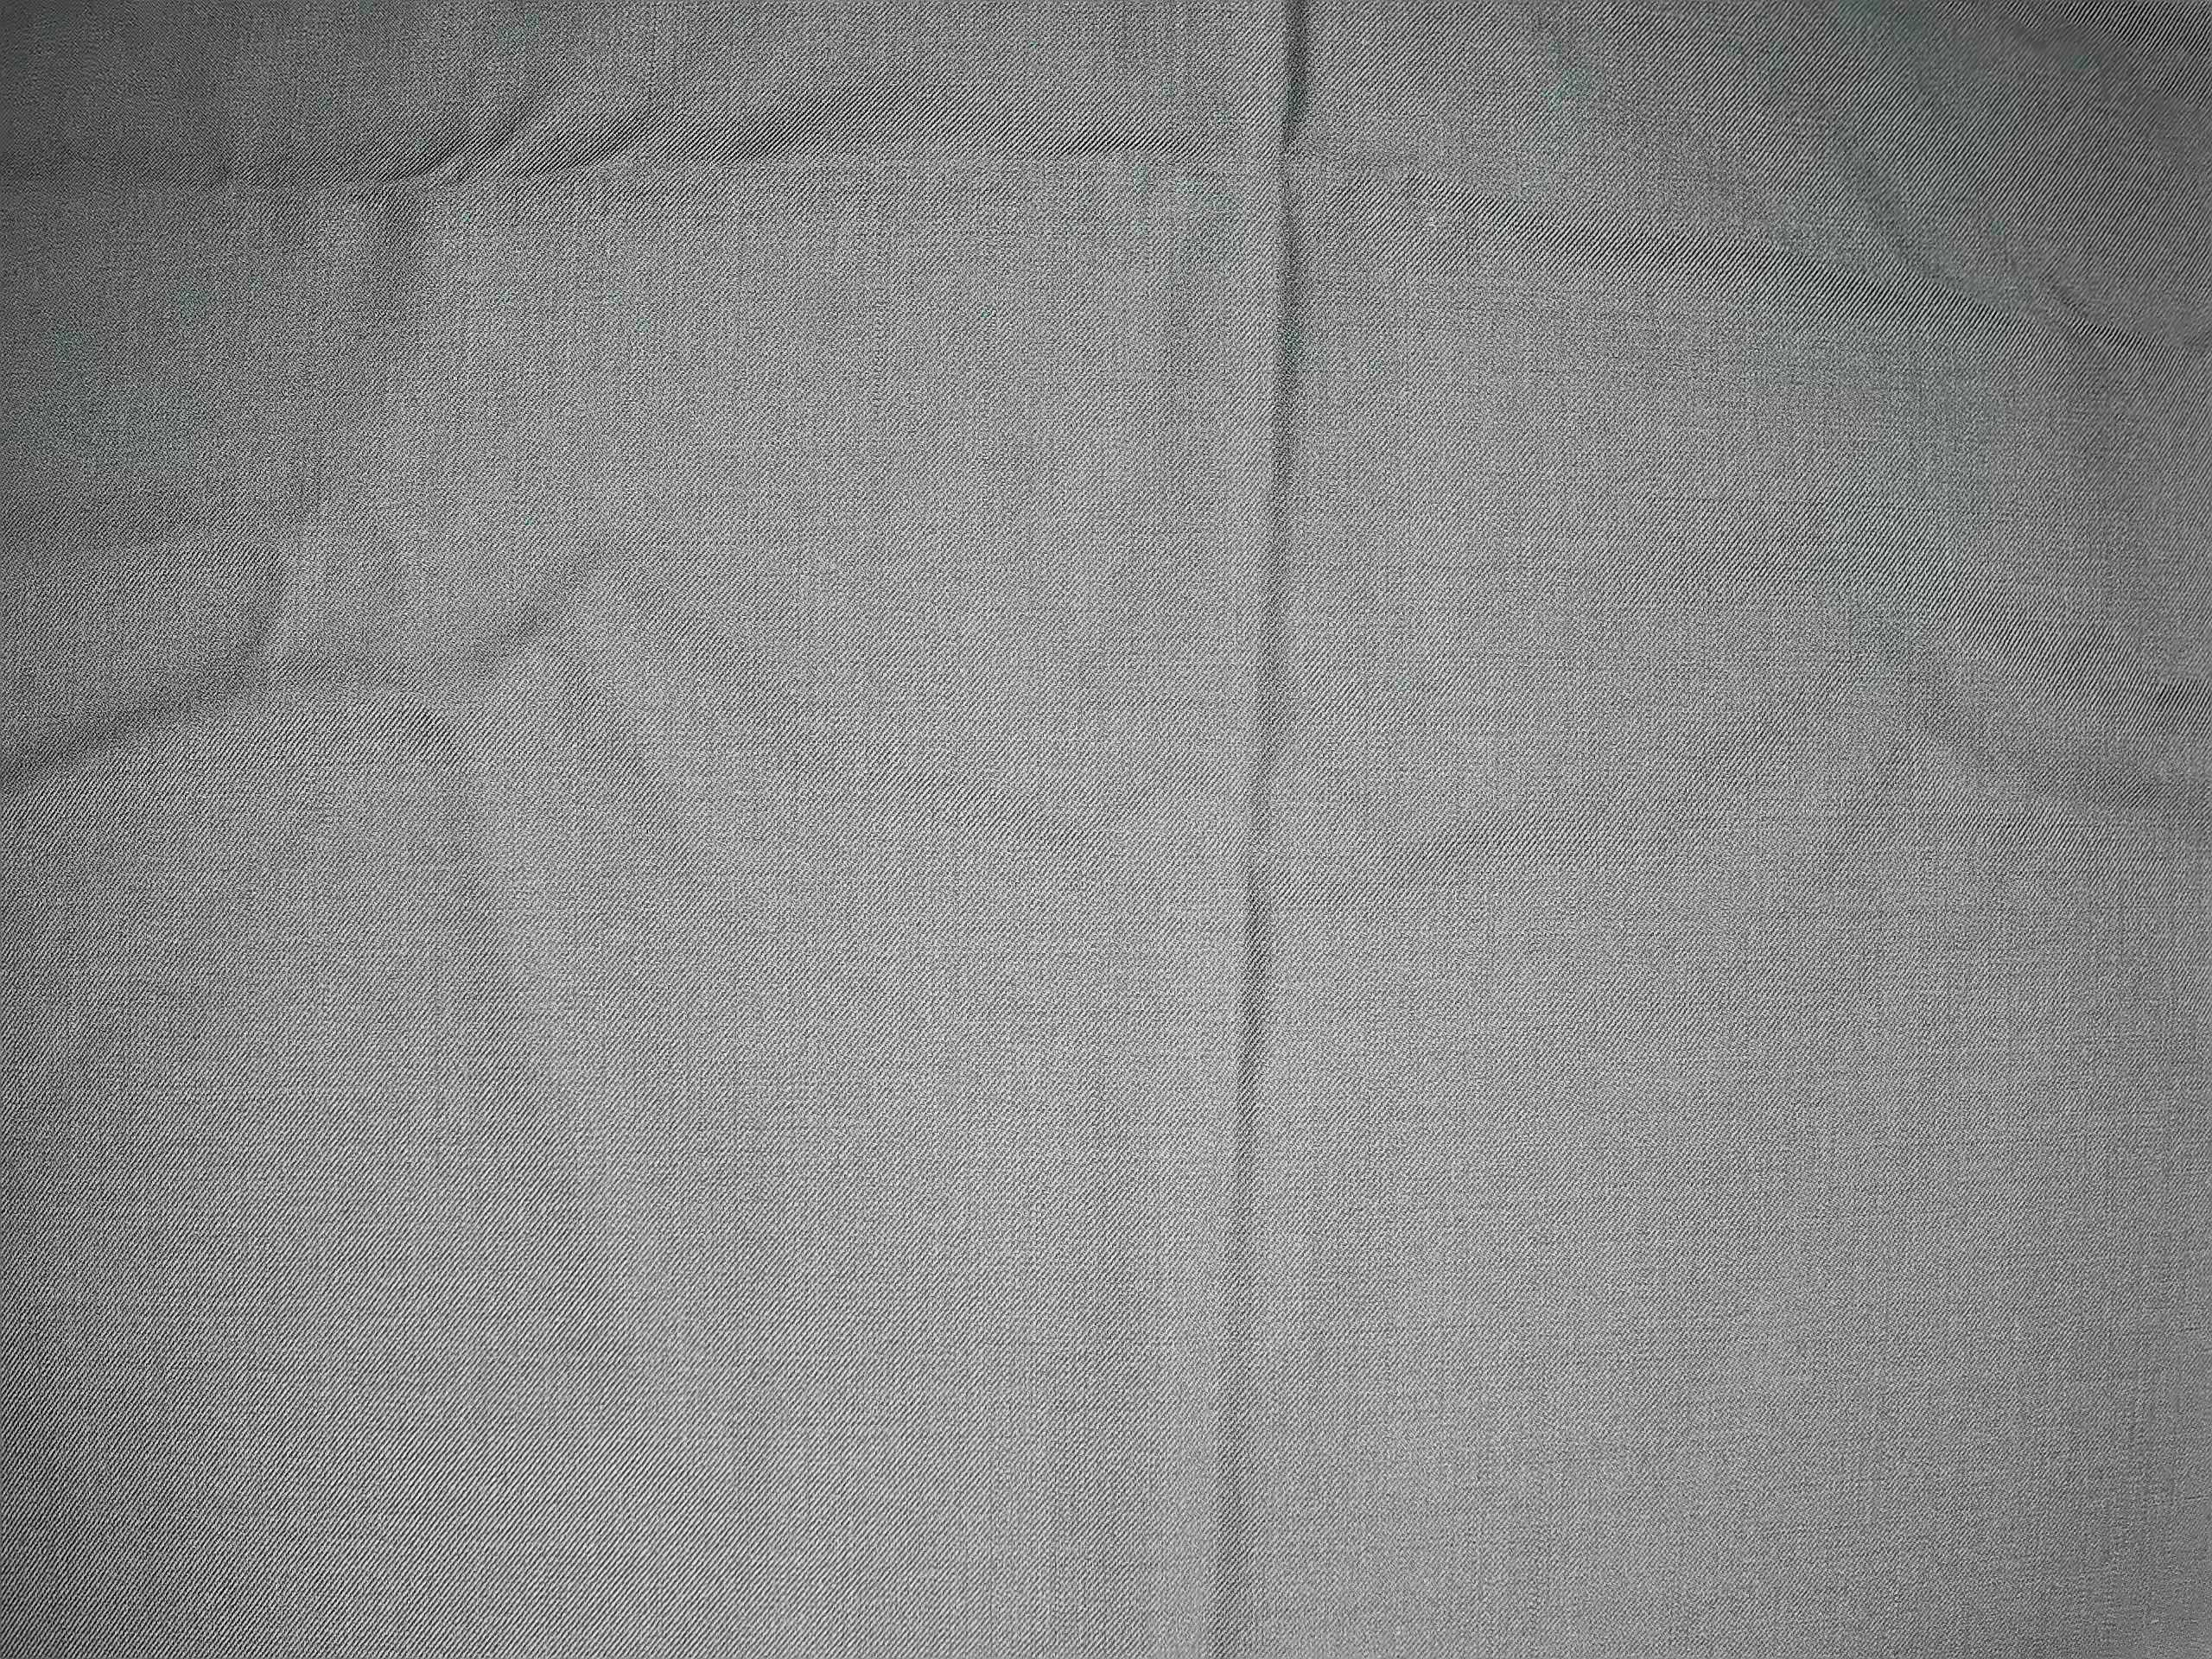jumps: (897, 1129, 1362, 1208)
